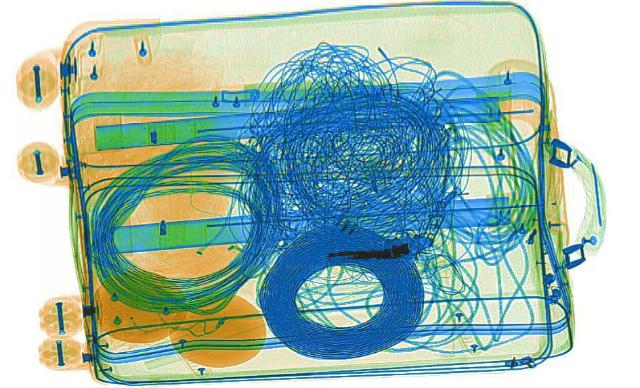Gun: (314, 210, 462, 269)
